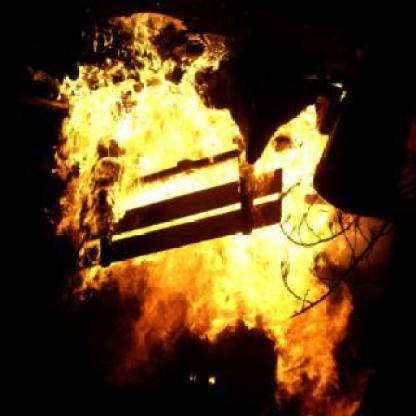Fire: (50, 12, 365, 412)
